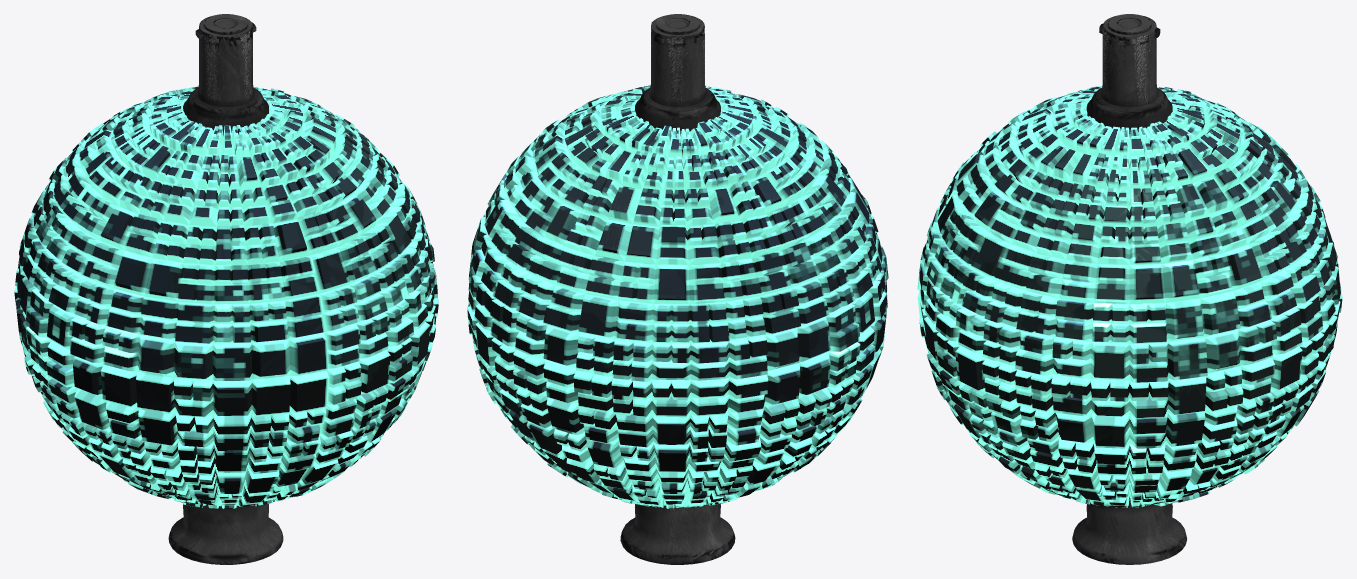
Rendered from Reactor_Core.fbx.
3 views of the same model, side by side, from view 1: azimuth 30°, elevation 25°; view 2: azimuth 150°, elevation 25°; view 3: azimuth 270°, elevation 25° (orthographic).
Visible parts, largest first — view 1: Reactor_Core, Pole; view 2: Reactor_Core, Pole; view 3: Reactor_Core, Pole.
Part boxes in pixels (box(x1,y1,x2,y2)): Reactor_Core: box(14, 86, 438, 508); Pole: box(168, 14, 283, 564); Reactor_Core: box(467, 85, 888, 509); Pole: box(620, 14, 735, 564); Reactor_Core: box(917, 86, 1342, 507); Pole: box(1072, 14, 1186, 564).
Size of the model in its own units: 785 by 1057 by 787.
